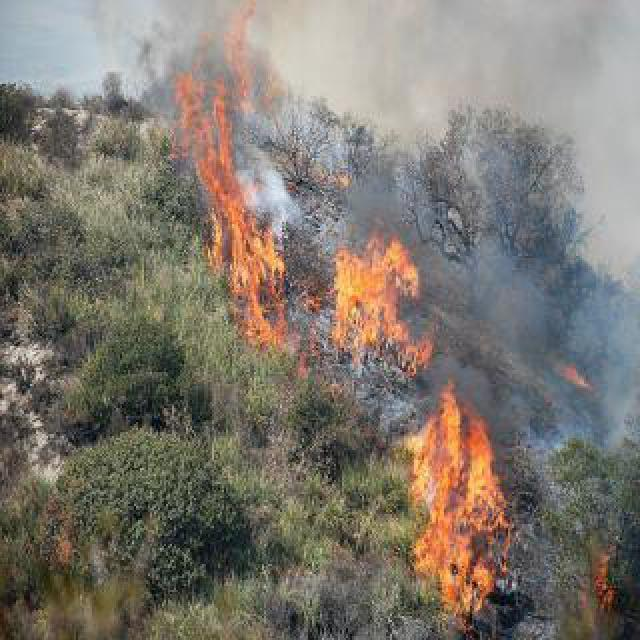Fire: (408, 394, 506, 612), (320, 236, 434, 386), (174, 228, 280, 328), (174, 72, 240, 228), (590, 530, 634, 628)
Smoke: (434, 236, 640, 436), (100, 2, 306, 122), (244, 146, 304, 230)
